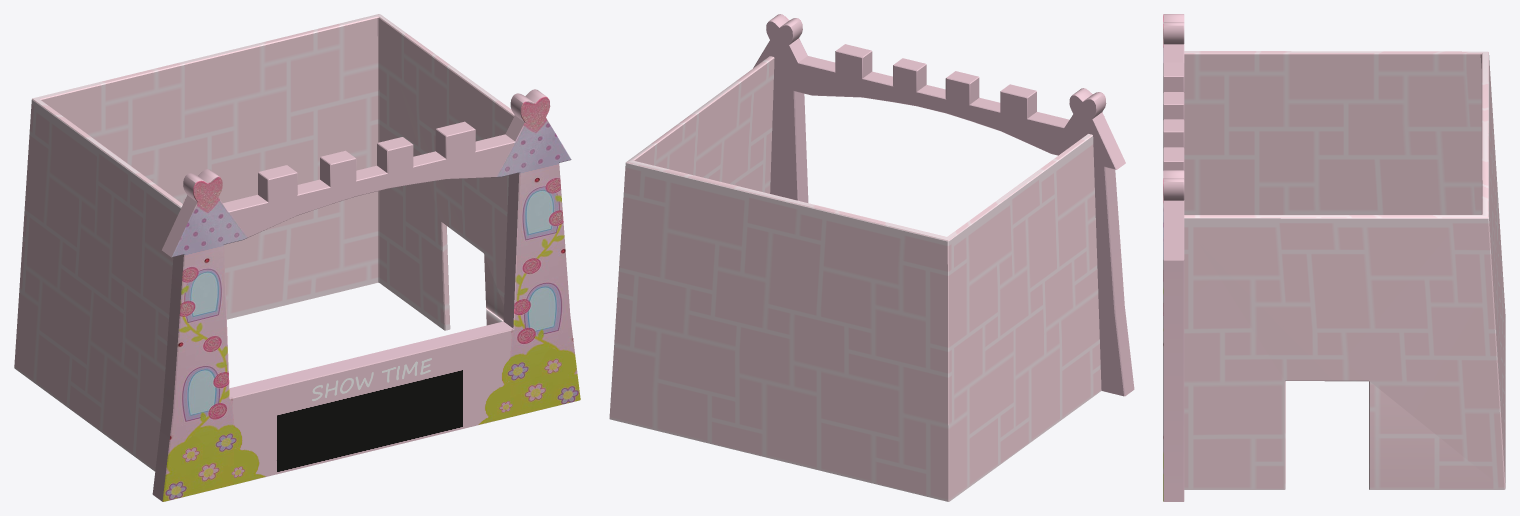
Rendered from Bedroom_Puppetstage.FBX.
3 views of the same model, side by side, from view 1: azimuth 30°, elevation 25°; view 2: azimuth 150°, elevation 25°; view 3: azimuth 270°, elevation 25° (orthographic). The views are drawn at different scales.
Parts seen in each view (by area): view 1: Bedroom_Puppetstage; view 2: Bedroom_Puppetstage; view 3: Bedroom_Puppetstage.
Boxes of the visible parts, left/top/right/bottom form: Bedroom_Puppetstage: left=14, top=14, right=580, bottom=501; Bedroom_Puppetstage: left=609, top=14, right=1134, bottom=501; Bedroom_Puppetstage: left=1163, top=14, right=1505, bottom=501.
Size of the model in its own units: 52.99 by 37.8 by 38.38.
1 material, 1 textured.
